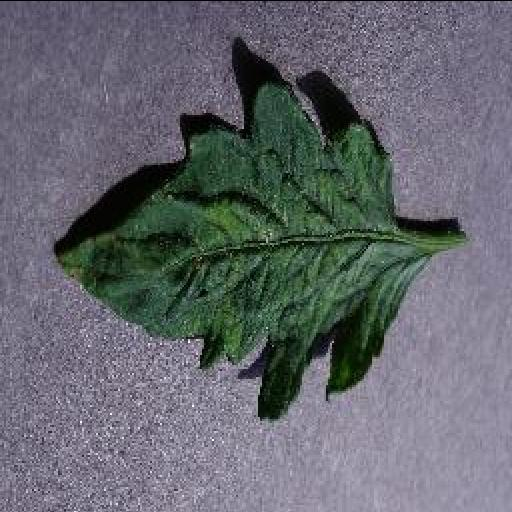disease_tomato: (46, 78, 430, 422)
